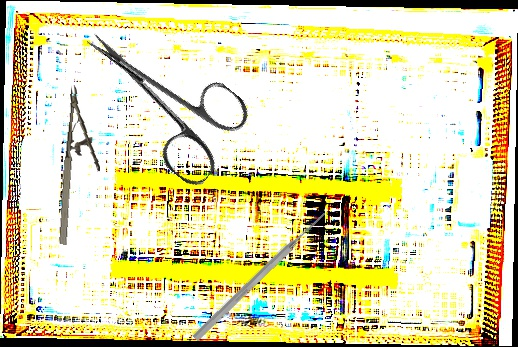Iris Scissors: (57, 0, 260, 192)
Needle Holder: (54, 84, 109, 248)
Pusher: (191, 209, 329, 343)
